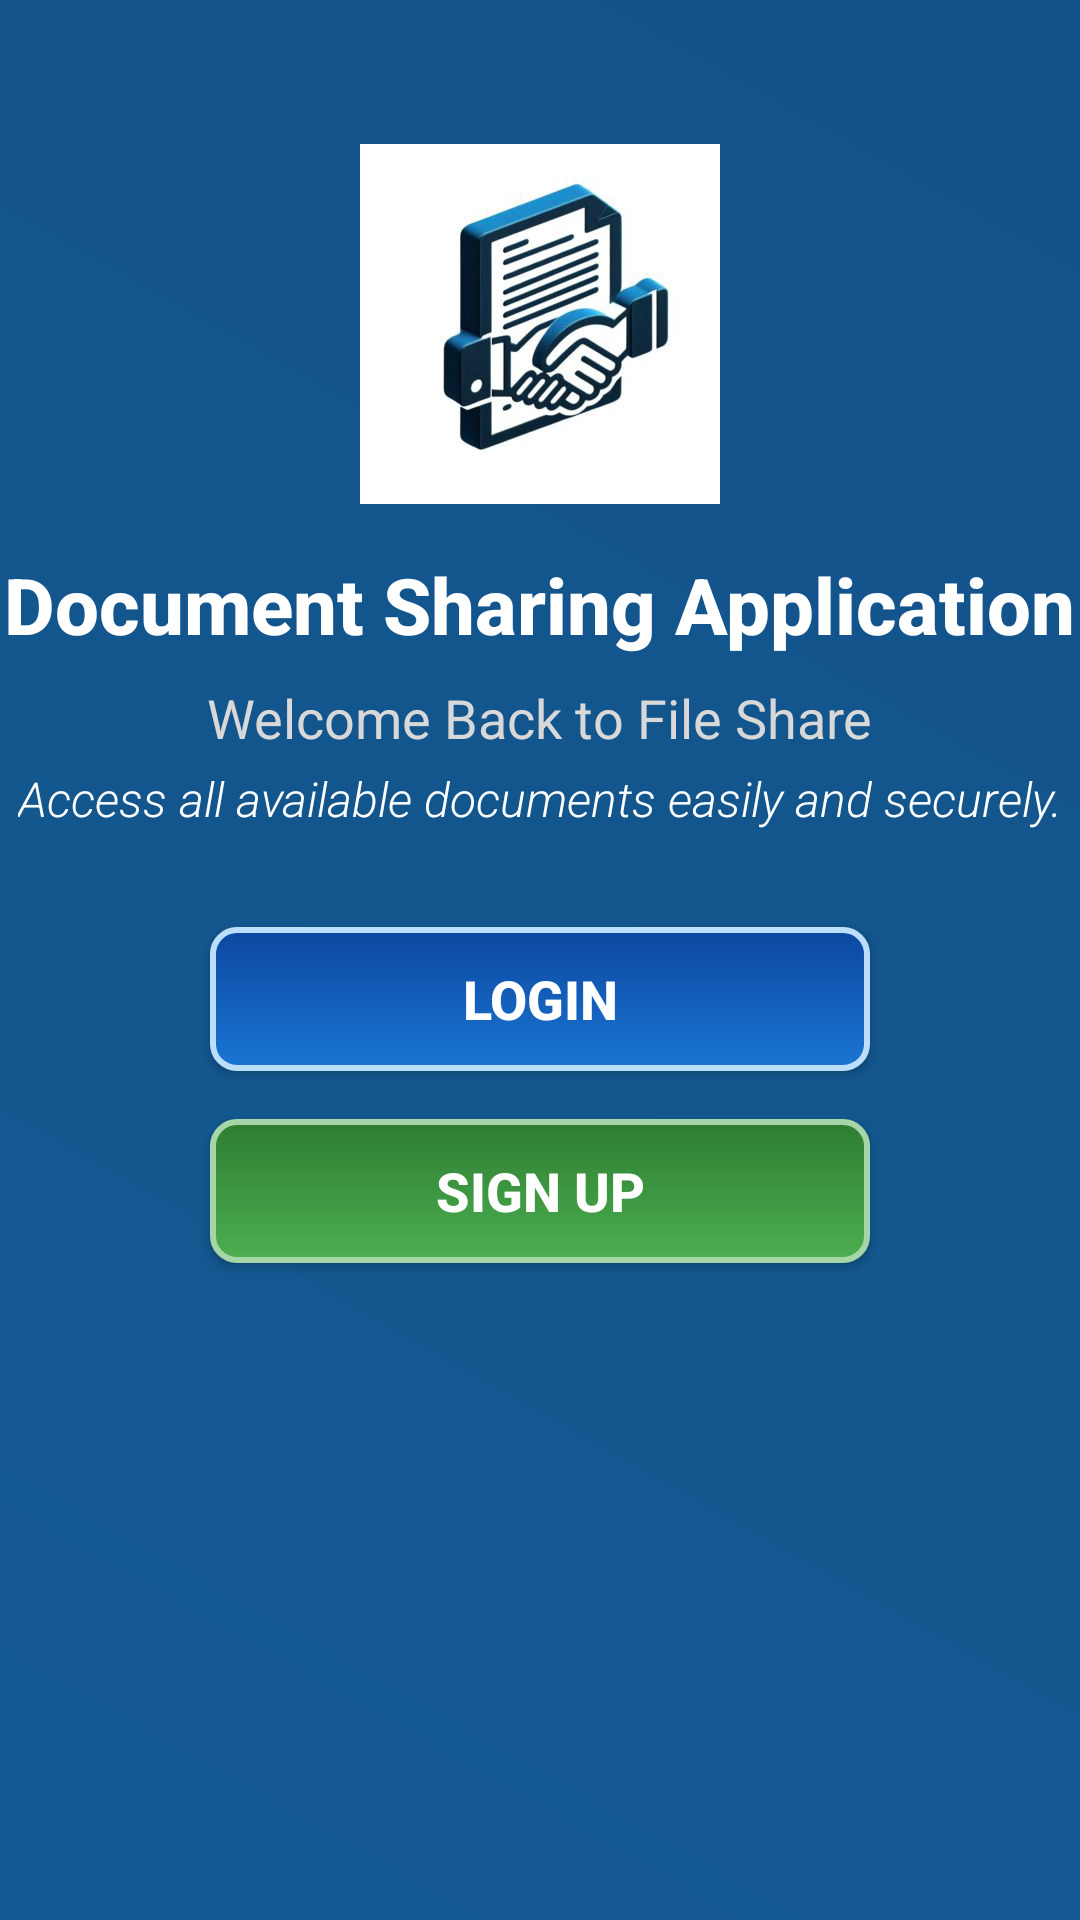

Where icons sit on this 1080 x 1920 app screen, as (x1, y1, x2, y2):
applogo: (360, 144, 720, 504)
